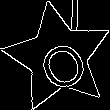O_NW: (27, 25, 89, 90)
